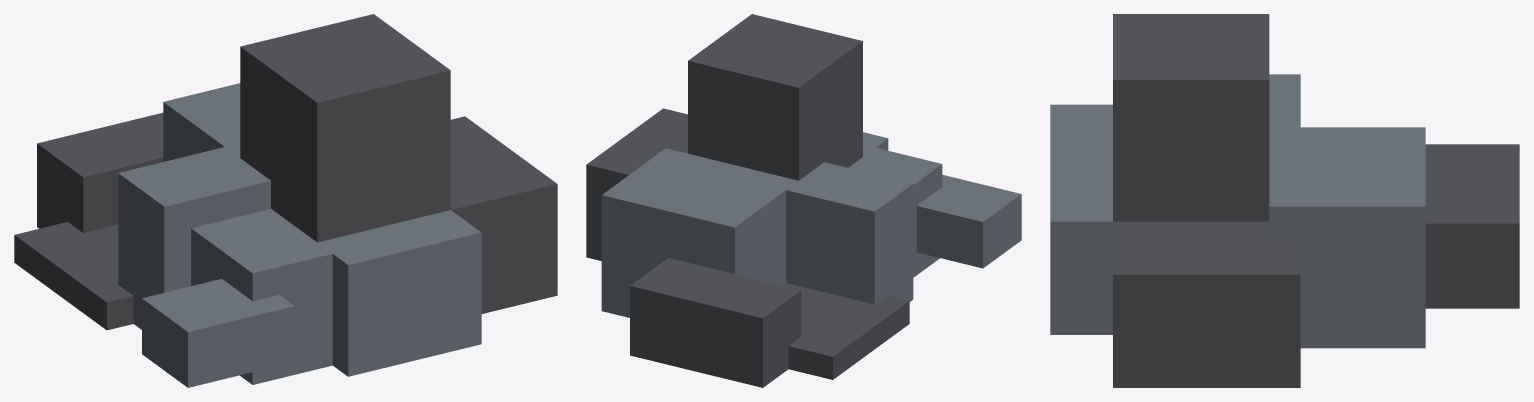
File: rock_6.obj
3 renders of one model, left to right at view 1: azimuth 30°, elevation 25°; view 2: azimuth 150°, elevation 25°; view 3: azimuth 270°, elevation 25°, orthographic. The views are drawn at different scales.
Bounding box in the file's own units: 15 × 9 × 15.
1 material, 1 textured.
